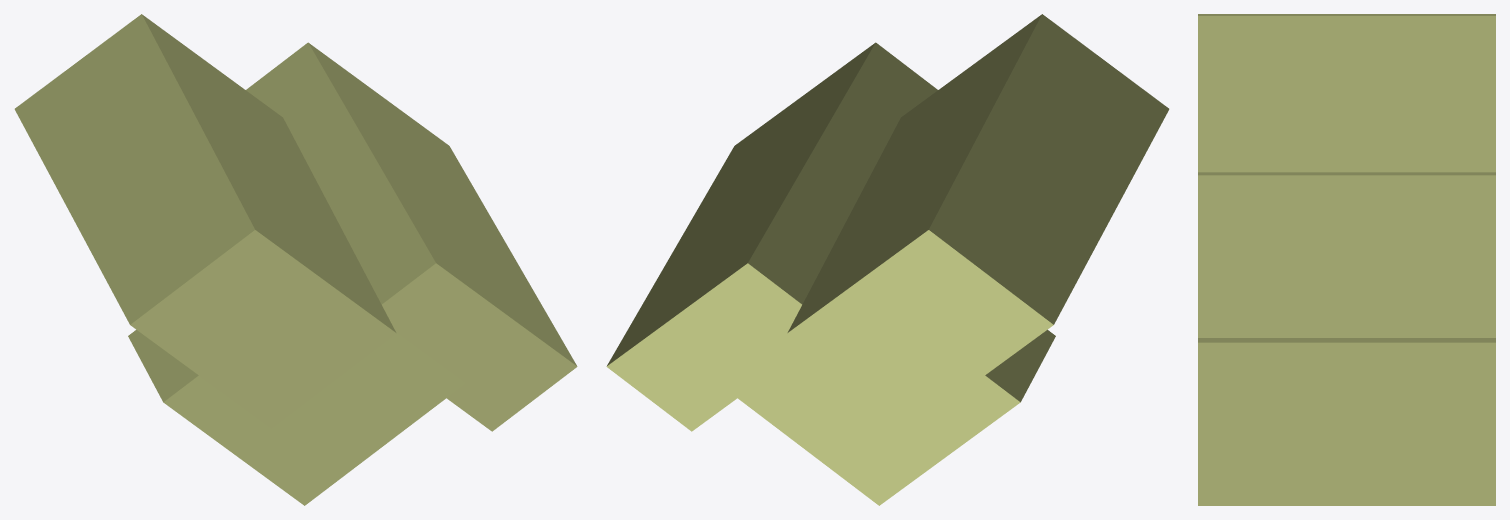
The picture shows the model from 3 angles, left to right: view 1: azimuth 30°, elevation 25°; view 2: azimuth 150°, elevation 25°; view 3: azimuth 270°, elevation 25°; orthographic projection. The views are drawn at different scales.
Parts seen in each view (by area): view 1: 0_1_2_0_3_3_0_2_1; view 2: 0_1_2_0_3_3_0_2_1; view 3: 0_1_2_0_3_3_0_2_1.
Part boxes in pixels (x1=…): 0_1_2_0_3_3_0_2_1: x1=14, y1=14, x2=577, y2=505; 0_1_2_0_3_3_0_2_1: x1=606, y1=14, x2=1169, y2=505; 0_1_2_0_3_3_0_2_1: x1=1198, y1=14, x2=1495, y2=505.
Bounding box in the file's own units: 15.5 × 13.82 × 9.
